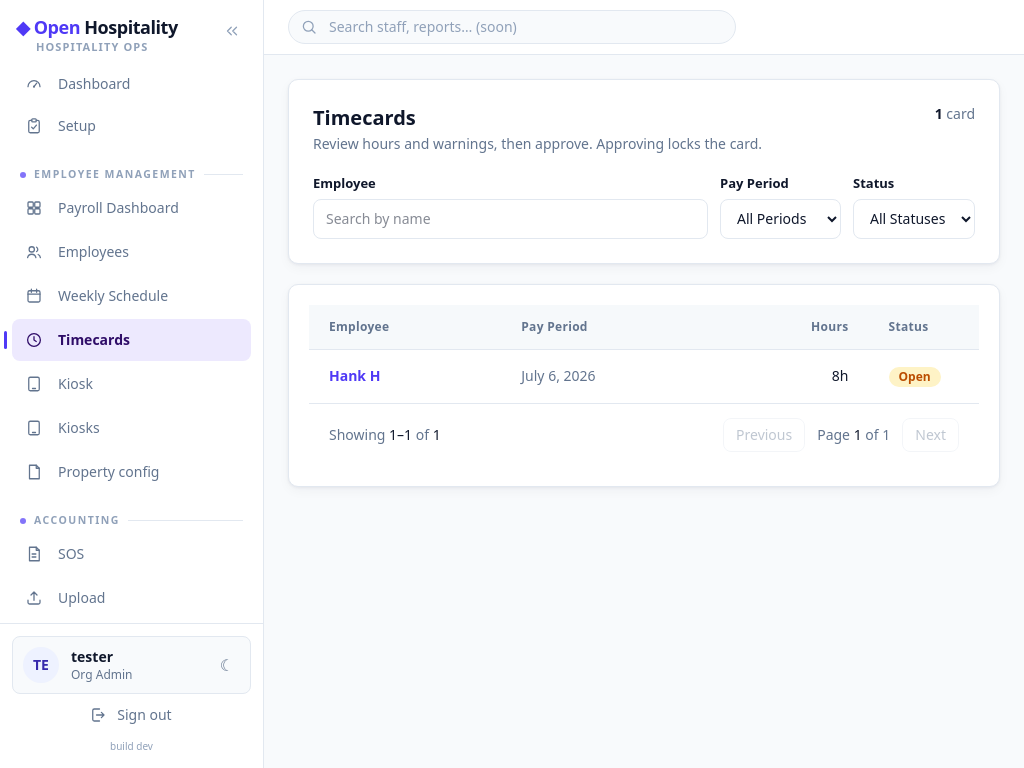
Scenario: TimecardsPage › lists cards and shows hours + warnings on open
The image size is (1024, 768).
Click the button "Hank H" at {"x": 355, "y": 376}, box [329,366,380,386]
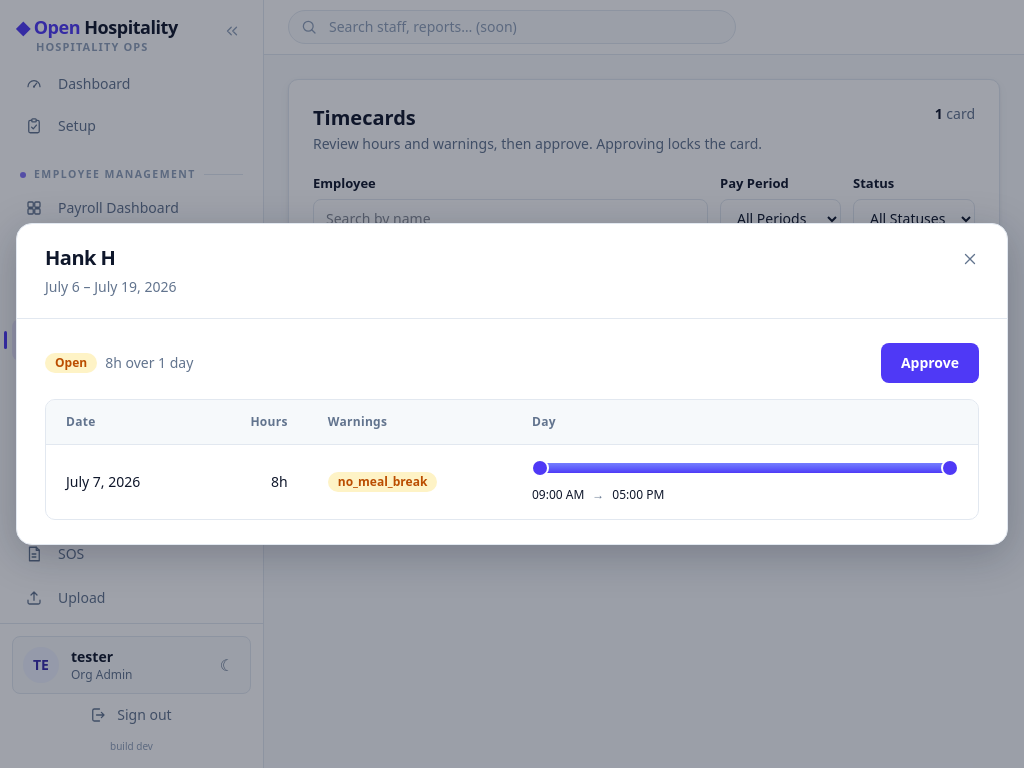
Result: the text "8h over 1 day" is shown at [105,353,193,373]
Result: the text "no_meal_break" is shown at [328,472,437,492]
